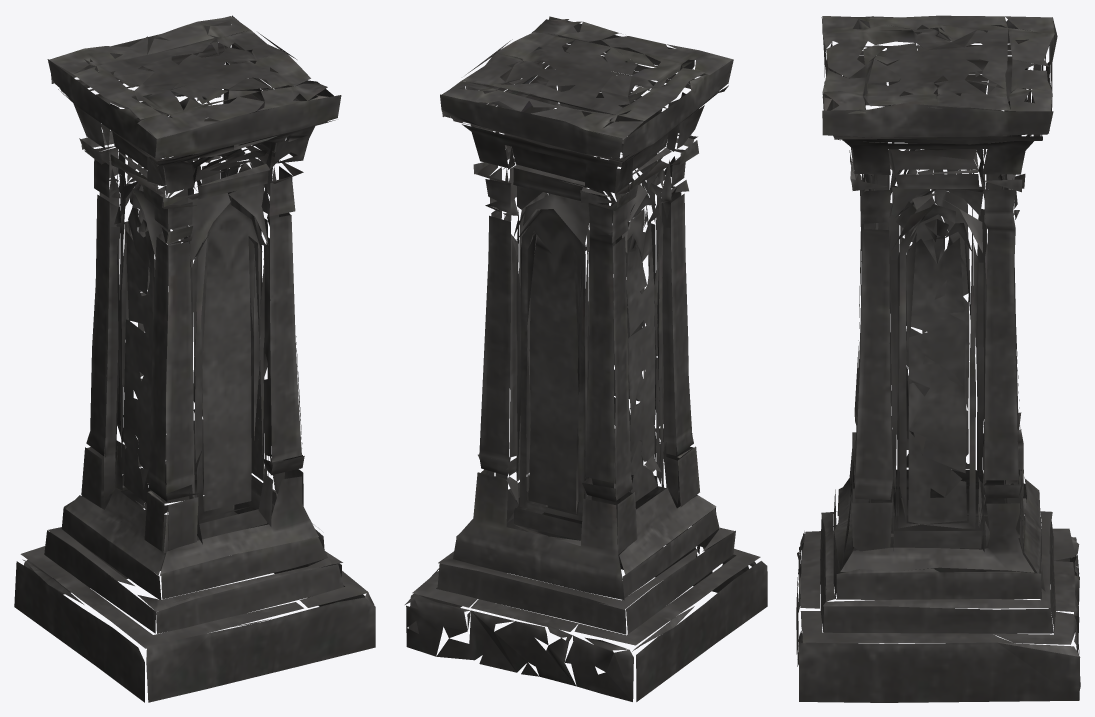
File: pro_pillar.glb
The picture shows the model from 3 angles, left to right: view 1: azimuth 30°, elevation 25°; view 2: azimuth 150°, elevation 25°; view 3: azimuth 270°, elevation 25°; orthographic projection. The views are drawn at different scales.
Parts seen in each view (by area): view 1: MetricPlacement; view 2: MetricPlacement; view 3: MetricPlacement.
Part boxes in pixels (x1,y1,x2,y2): MetricPlacement: [14, 15, 375, 702]; MetricPlacement: [405, 16, 767, 701]; MetricPlacement: [796, 15, 1080, 702].
Bounding box in the file's own units: 1.58 × 3.6 × 1.58.
Materials: 1 (1 with a texture image).
